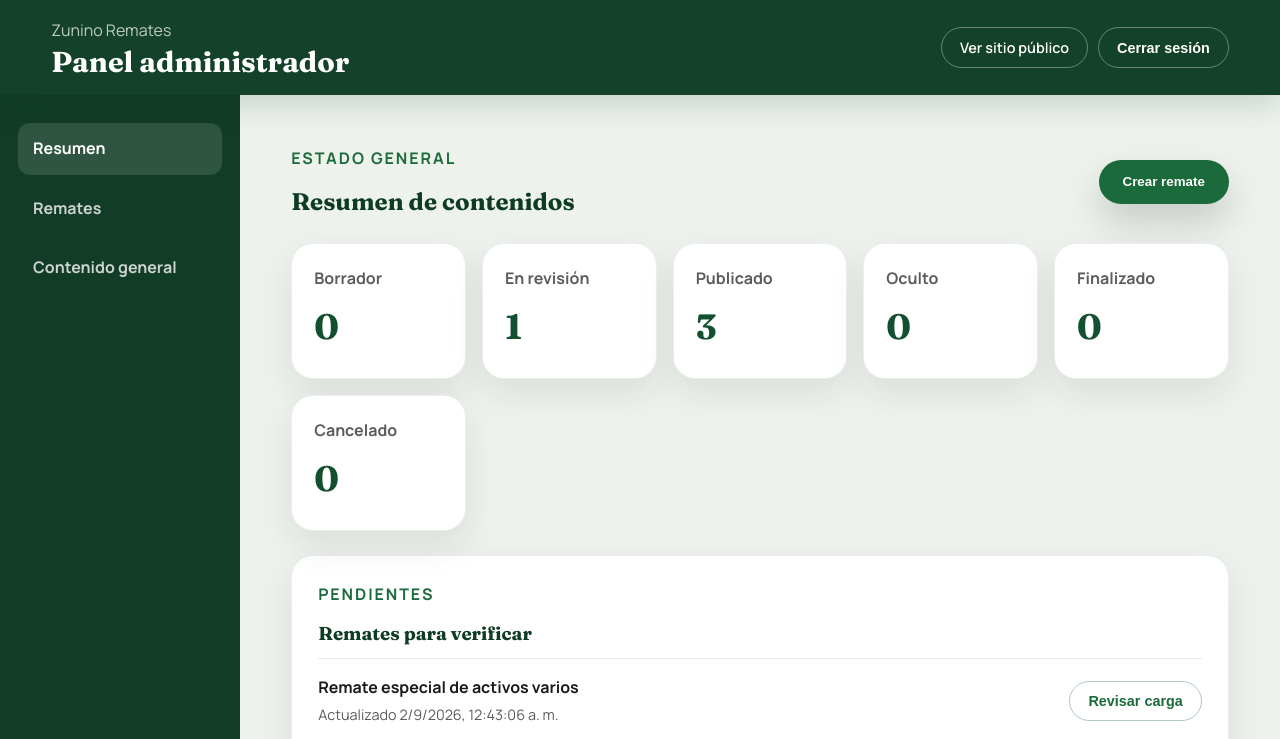
panel administrador › finaliza y cancela remates desde el modal de confirmación
Click the button "Remates": coordinates (120, 209) x1=18 y1=183 x2=222 y2=234
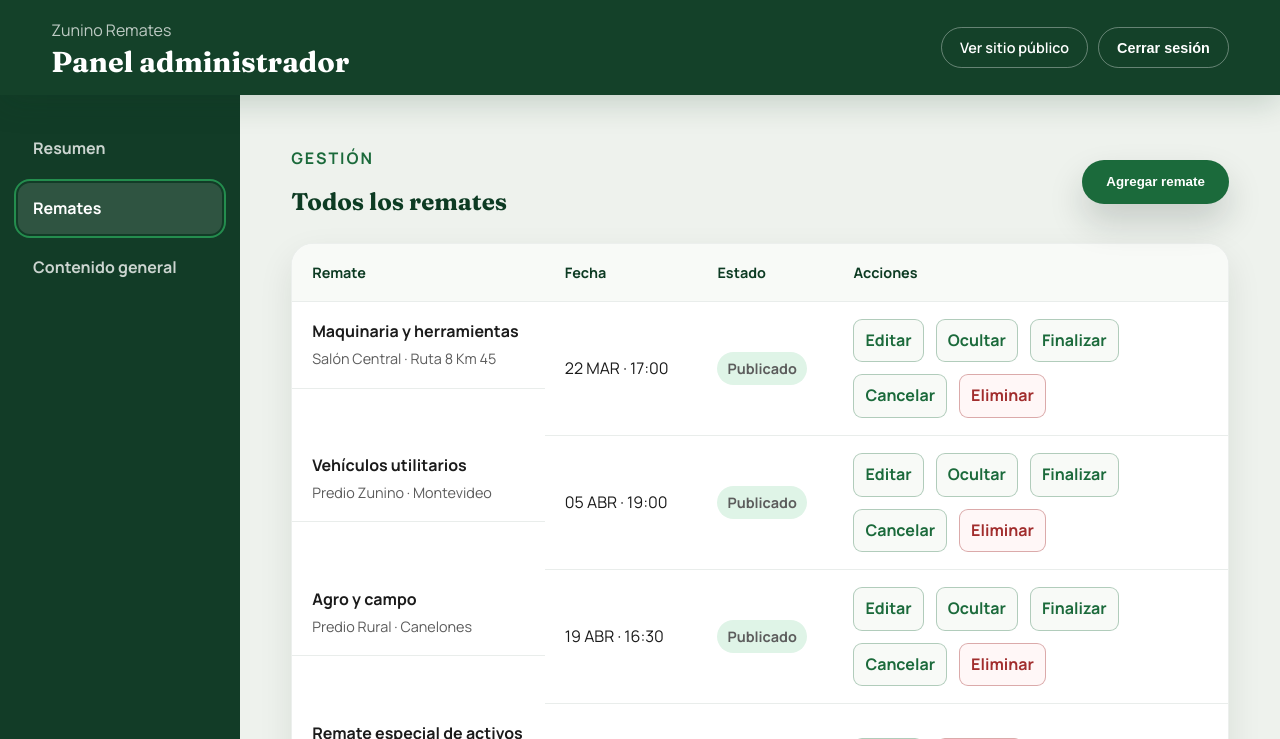
Click the button "Finalizar" in the row of "Maquinaria y herramientas": coordinates (1074, 341) x1=1030 y1=319 x2=1119 y2=362
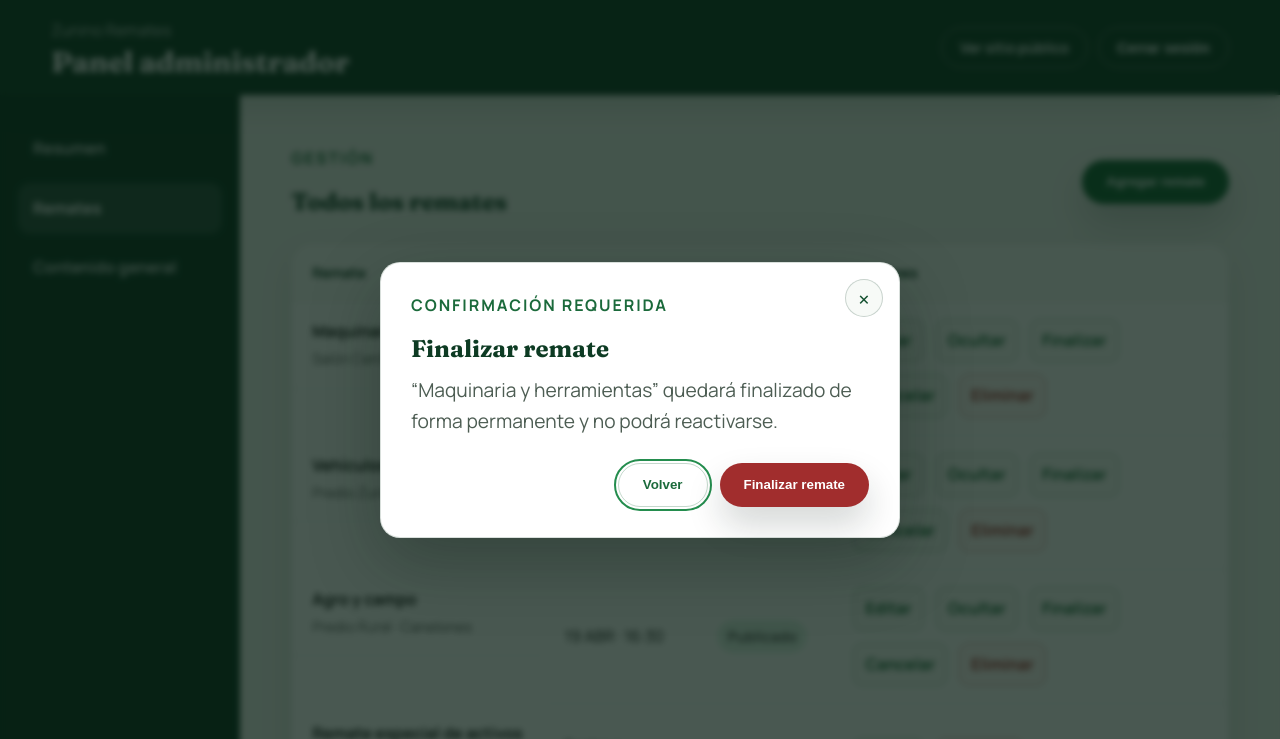
Click the button "Finalizar remate": coordinates (794, 485) x1=720 y1=463 x2=869 y2=507
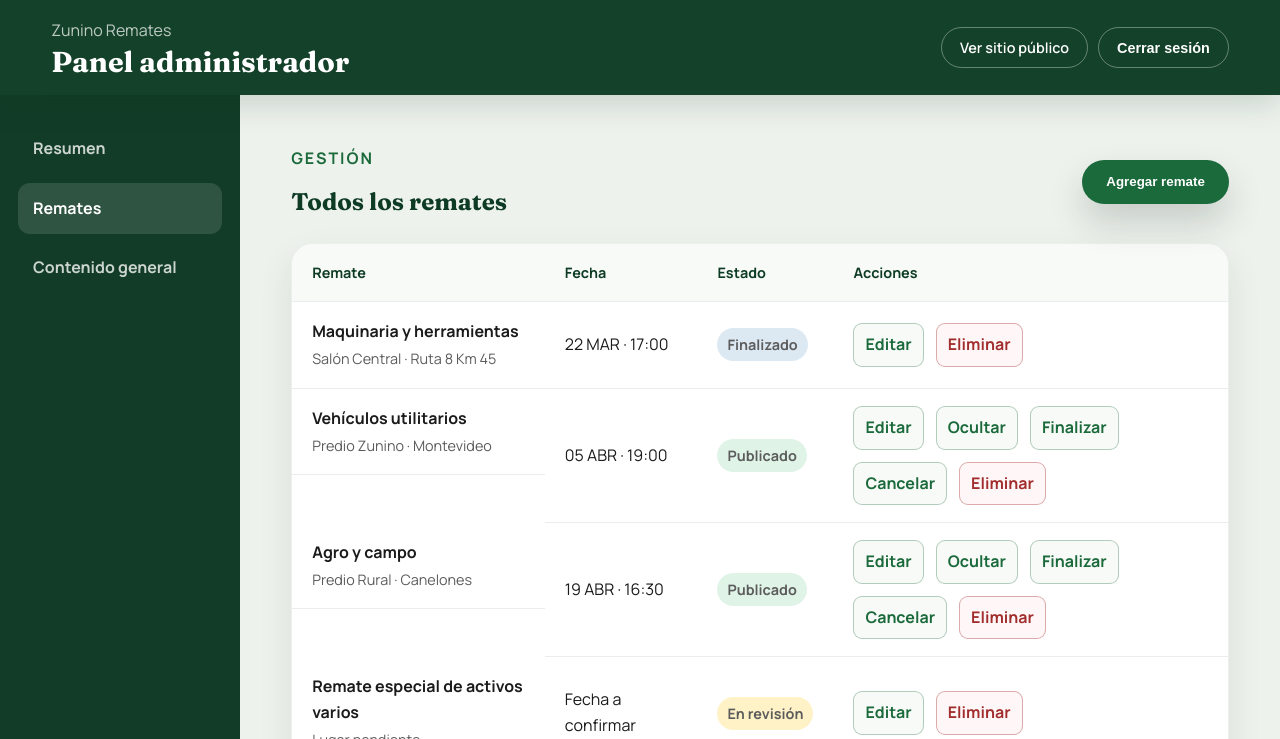
Click the button "Cancelar" in the row of "05 ABR · 19:00": coordinates (900, 483) x1=854 y1=462 x2=947 y2=505
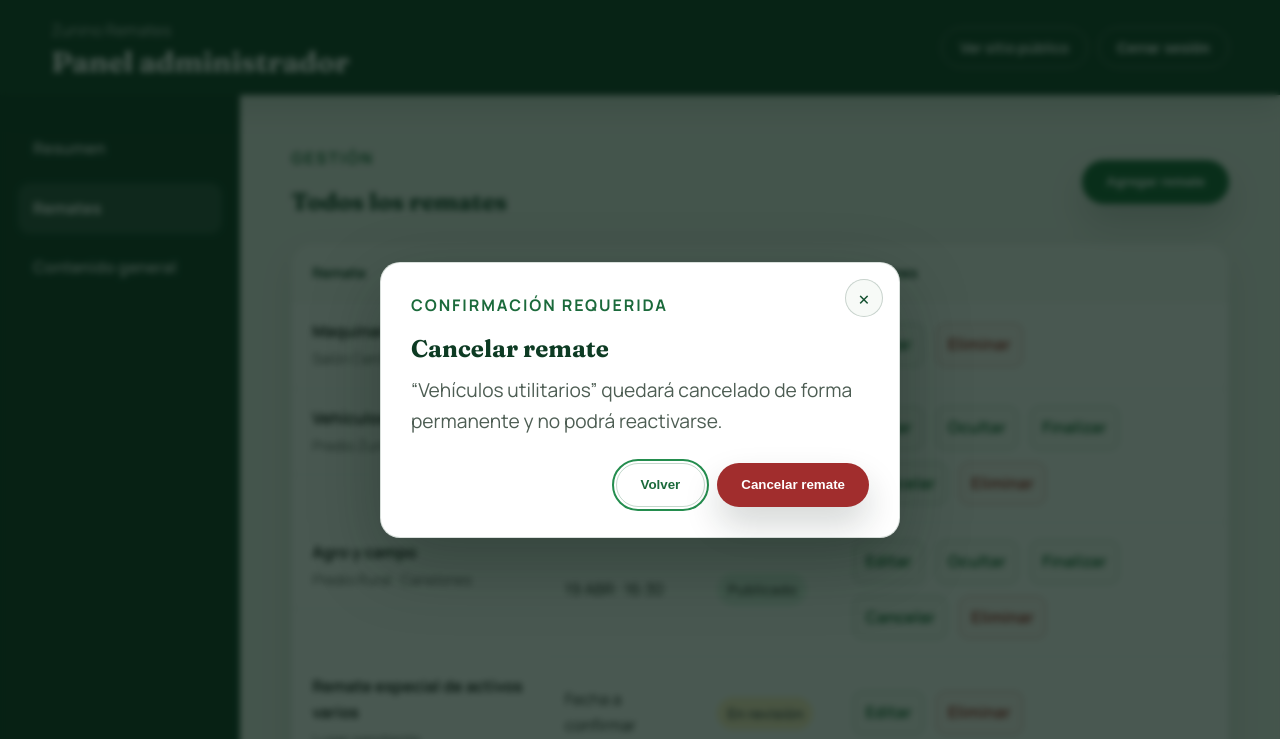
Click the button "Cancelar remate": coordinates (793, 485) x1=717 y1=463 x2=869 y2=507
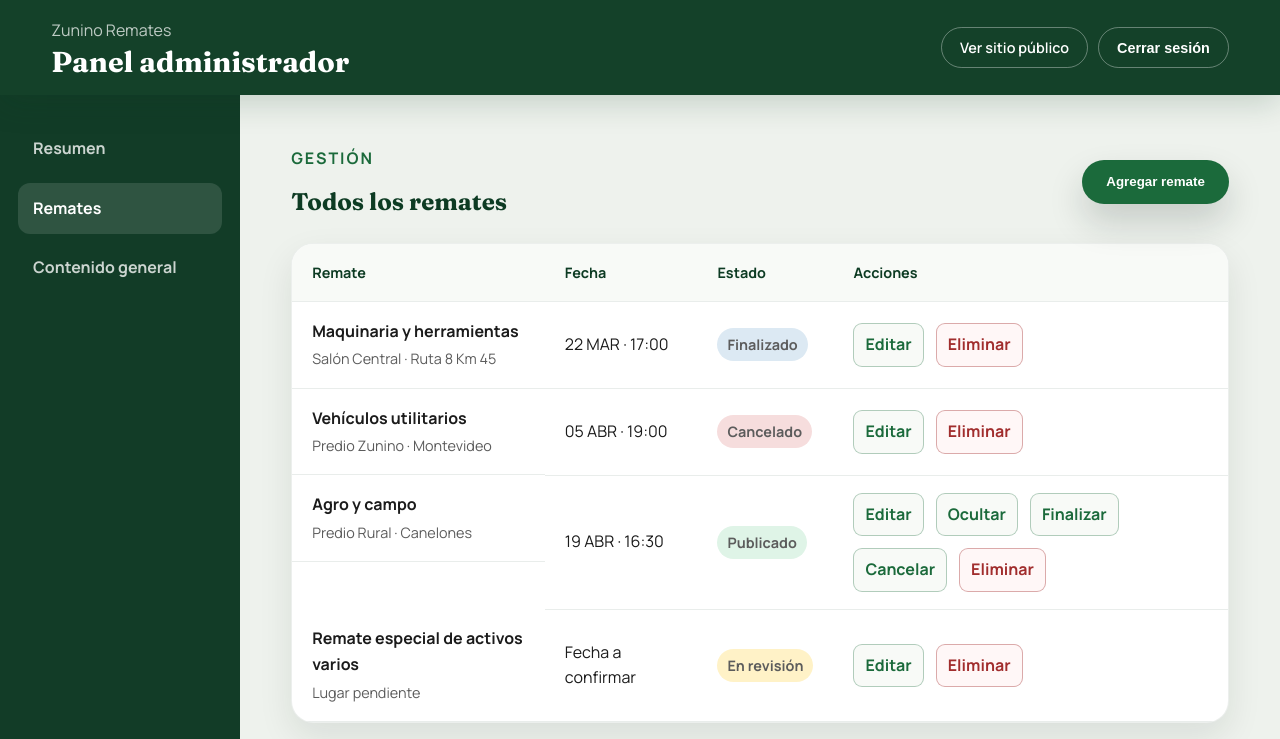
Check: the button "Finalizar" is not shown
Check: the text "Finalizado" is shown, box x1=728 y1=335 x2=798 y2=354
Check: the text "Cancelado" is shown, box x1=728 y1=422 x2=802 y2=441
